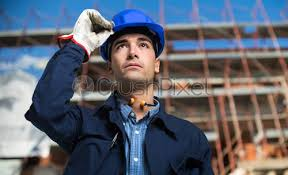Person_wearing_helmet: (98, 7, 166, 54)
